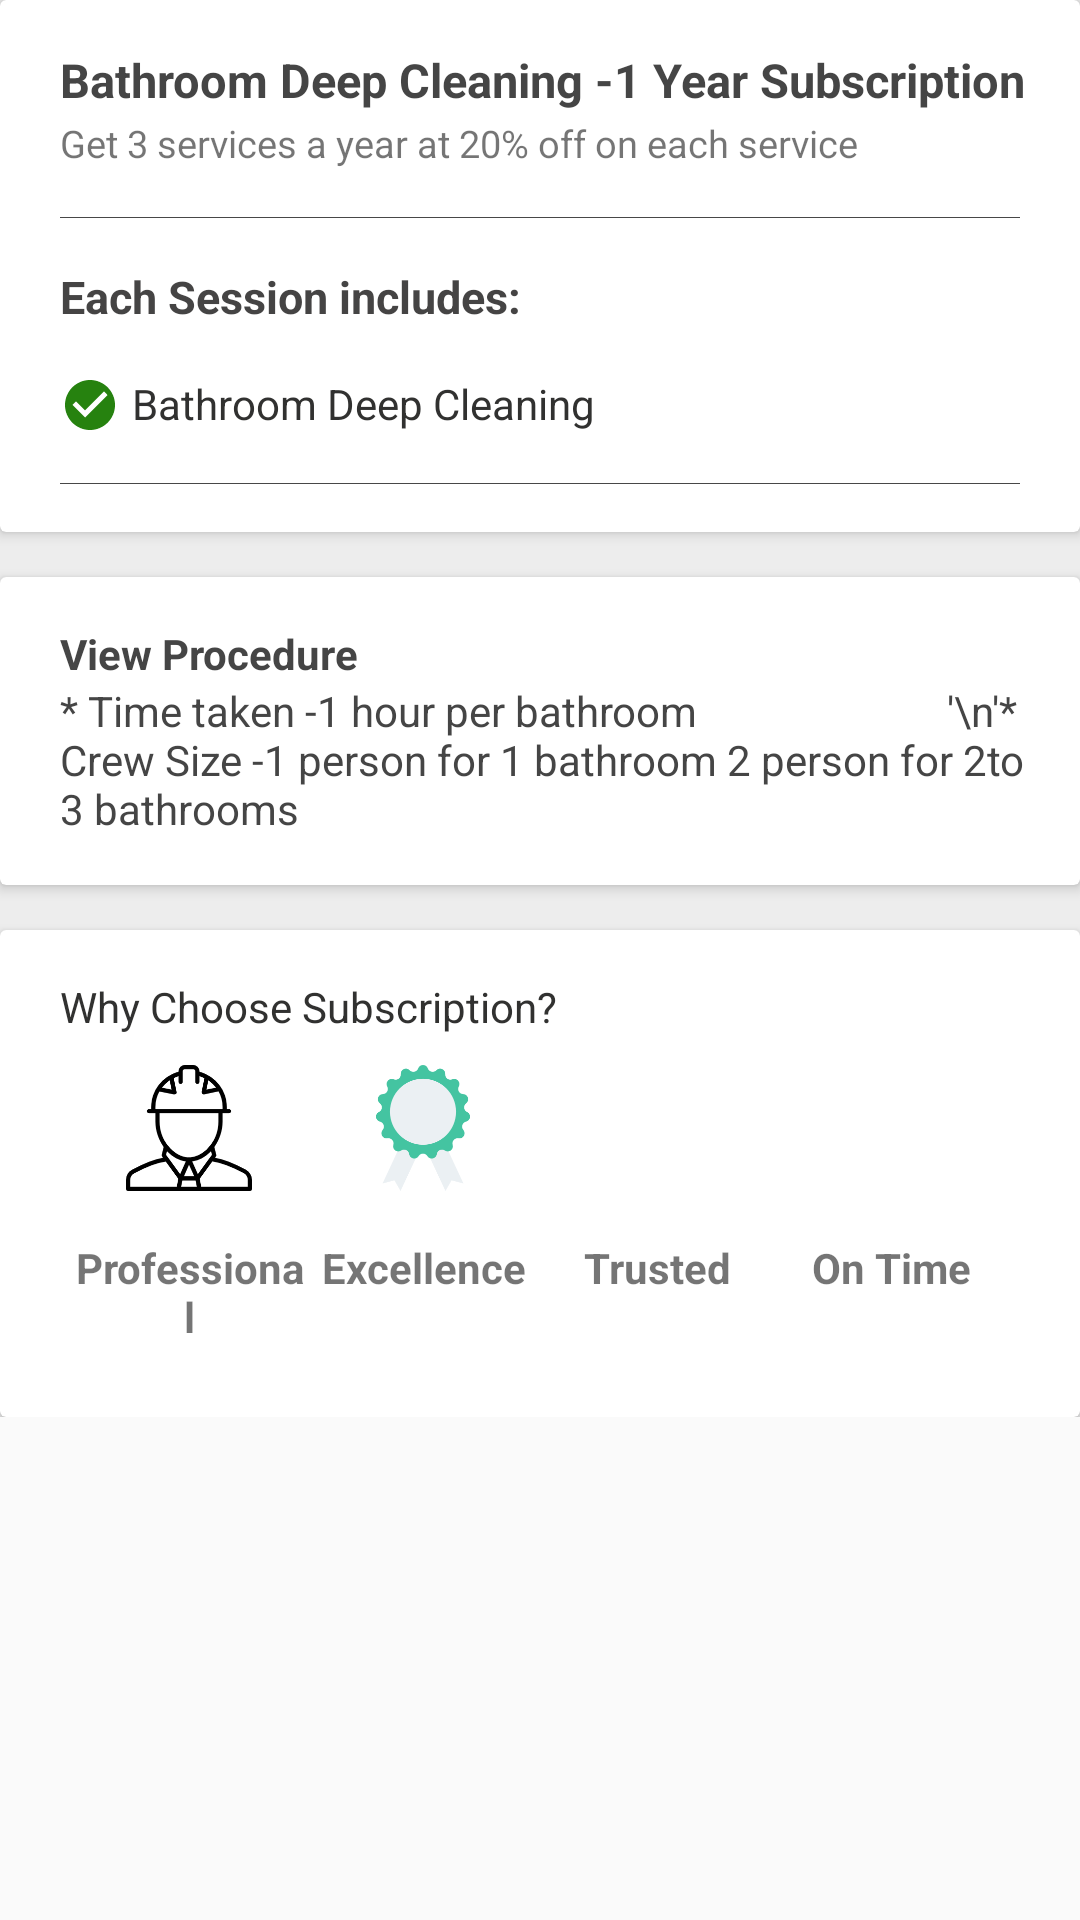

Where to tap for icons on this 1080*1920 app screen, as (x=x, y=y):
achievement: (x=423, y=1112)
check circle: (x=90, y=405)
engineer: (x=189, y=1128)
